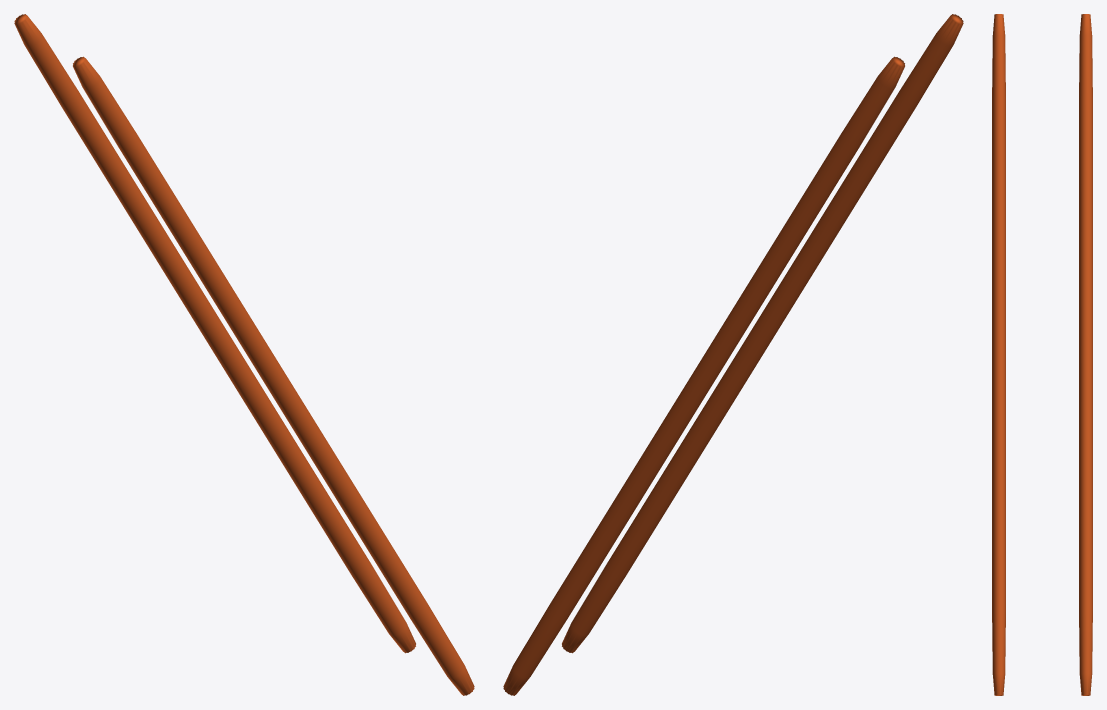
The model's file is LadderLongs.obj.
3 renders of one model, left to right at view 1: azimuth 30°, elevation 25°; view 2: azimuth 150°, elevation 25°; view 3: azimuth 270°, elevation 25°, orthographic. The views are drawn at different scales.
Visible parts, largest first — view 1: LadderStickLong2 Ladder1 HouseBase1, Ladder1 HouseBase1 LadderStickLong1; view 2: LadderStickLong2 Ladder1 HouseBase1, Ladder1 HouseBase1 LadderStickLong1; view 3: LadderStickLong2 Ladder1 HouseBase1, Ladder1 HouseBase1 LadderStickLong1.
Boxes of the visible parts, x1,y1,x2,y2 form: LadderStickLong2 Ladder1 HouseBase1: [14, 14, 415, 653]; Ladder1 HouseBase1 LadderStickLong1: [73, 56, 474, 695]; LadderStickLong2 Ladder1 HouseBase1: [503, 56, 904, 695]; Ladder1 HouseBase1 LadderStickLong1: [562, 14, 963, 653]; LadderStickLong2 Ladder1 HouseBase1: [1079, 14, 1092, 695]; Ladder1 HouseBase1 LadderStickLong1: [992, 14, 1005, 695].
Size of the model in its own units: 10.8 by 18.82 by 3.16.
